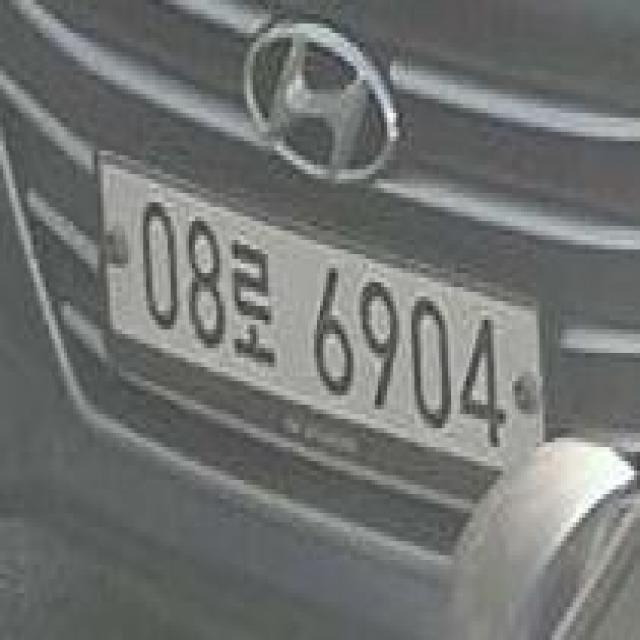illegal_plate: (95, 159, 551, 511)
